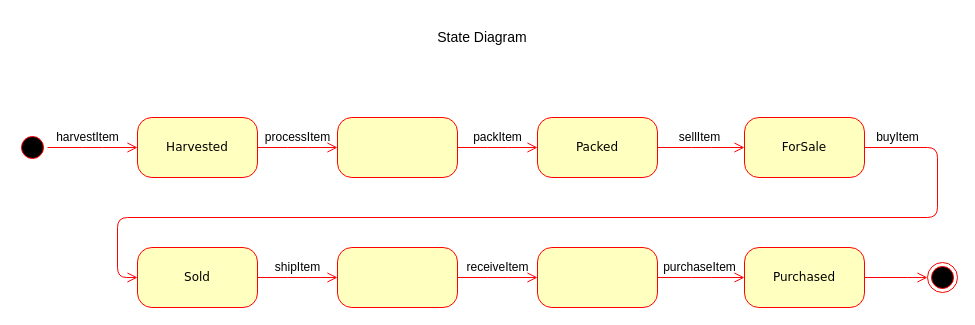
The diagram is 975 pixels wide and 325 high, and some of its shapes have lost their labels. The centre of each missing label's shape, as x and y in pixels:
Processed: point (397, 147)
Received: point (597, 277)
Shipped: point (397, 277)
